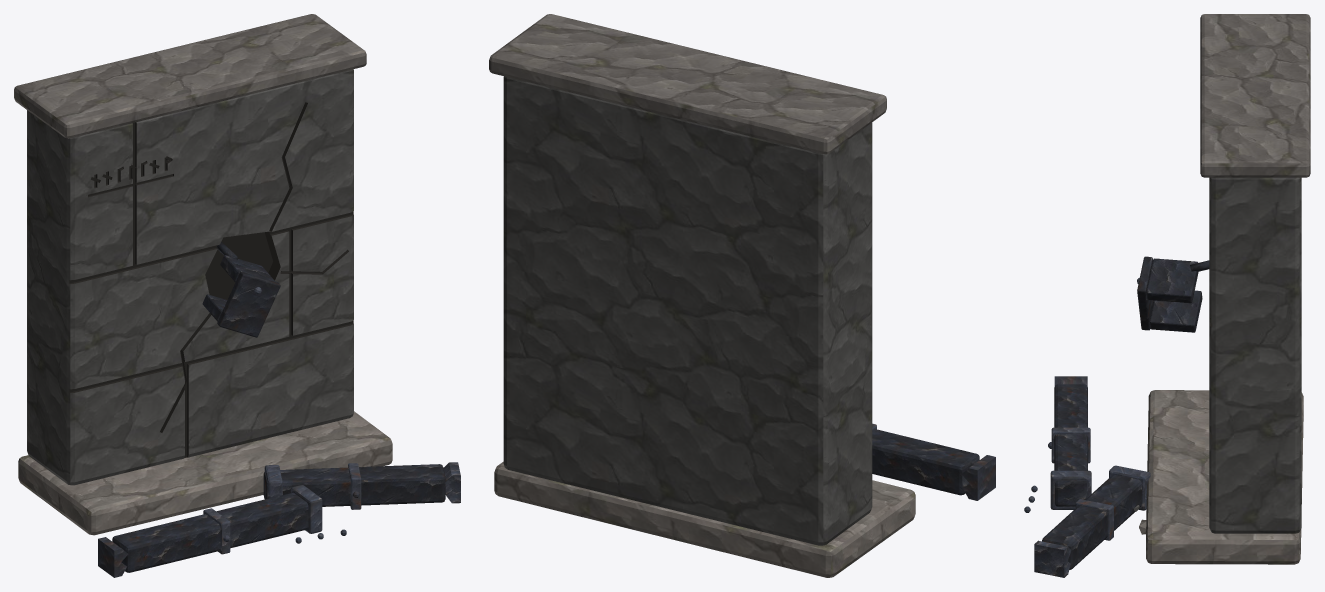
File: vo_bar_snapped.glb
3 views of the same model, side by side, from view 1: azimuth 30°, elevation 25°; view 2: azimuth 150°, elevation 25°; view 3: azimuth 270°, elevation 25° (orthographic). The views are drawn at different scales.
Visible parts, largest first — view 1: model; view 2: model; view 3: model.
Boxes of the visible parts, box(x1,y1,x2,y2) form: model: box(14, 14, 460, 577); model: box(489, 14, 995, 577); model: box(1024, 14, 1310, 577).
Bounding box in the file's own units: 1.34 × 1.46 × 0.9328.
7 materials, 6 textured.
